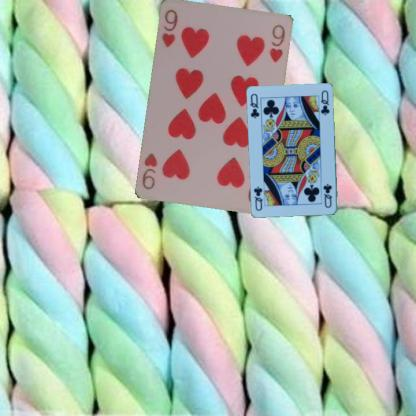9h: (160, 7, 179, 49)
Qc: (248, 91, 260, 120), (321, 182, 333, 209)
